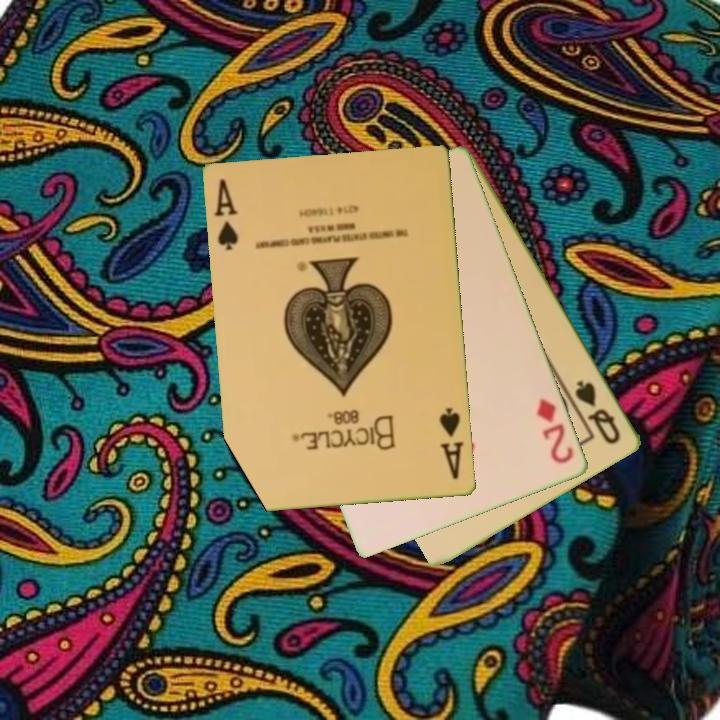2d: (533, 395, 577, 467)
As: (436, 404, 467, 483), (211, 175, 242, 253)
Qs: (572, 377, 625, 448)
